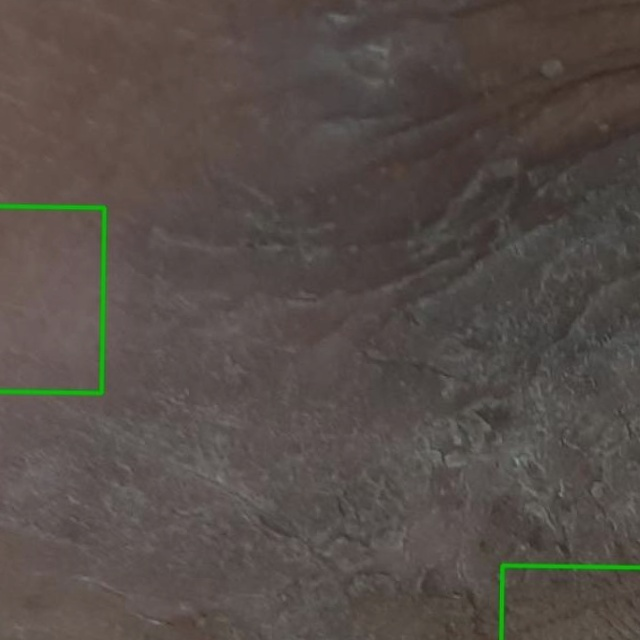Eczema: (0, 206, 104, 393), (501, 565, 639, 639)
